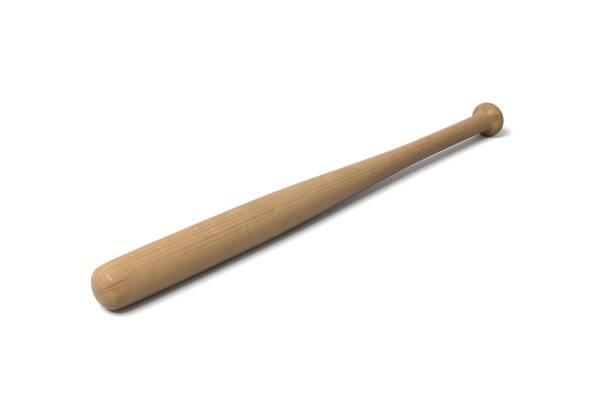bita: (88, 104, 502, 310)
